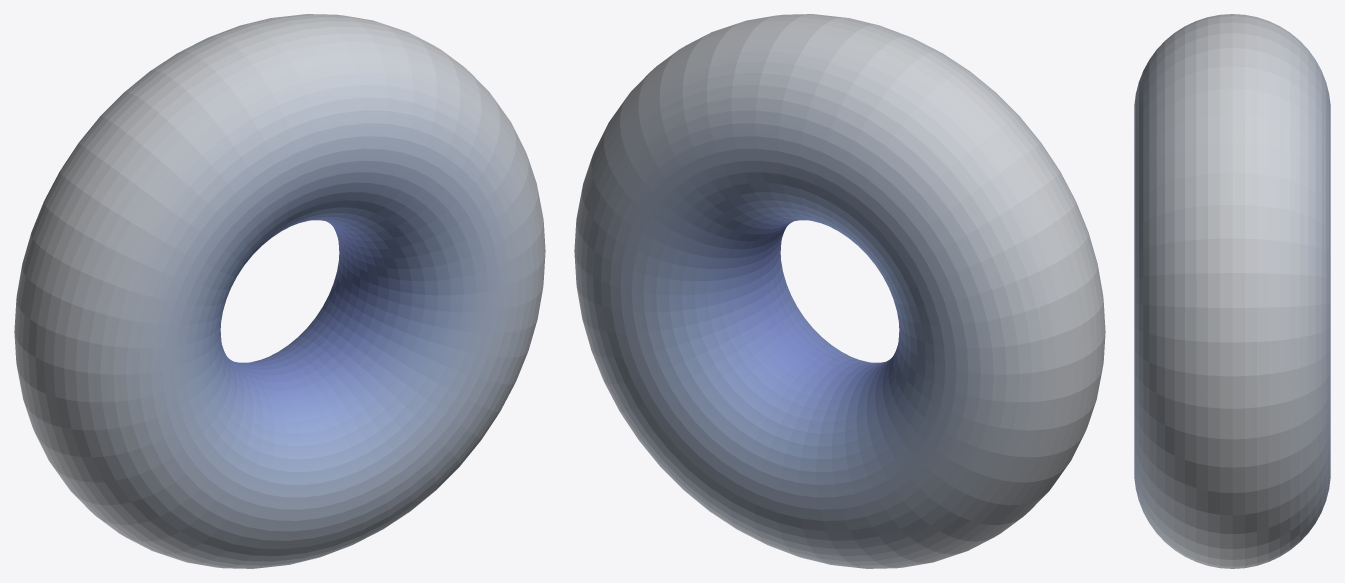
The picture shows the model from 3 angles, left to right: view 1: azimuth 30°, elevation 25°; view 2: azimuth 150°, elevation 25°; view 3: azimuth 270°, elevation 25°; orthographic projection. The views are drawn at different scales.
Parts seen in each view (by area): view 1: world; view 2: world; view 3: world.
Part boxes in pixels (x1,y1,x2,y2): world: (14, 14, 545, 568); world: (574, 14, 1105, 568); world: (1134, 14, 1330, 568).
Size of the model in its own units: 20.67 by 20.63 by 7.32.
